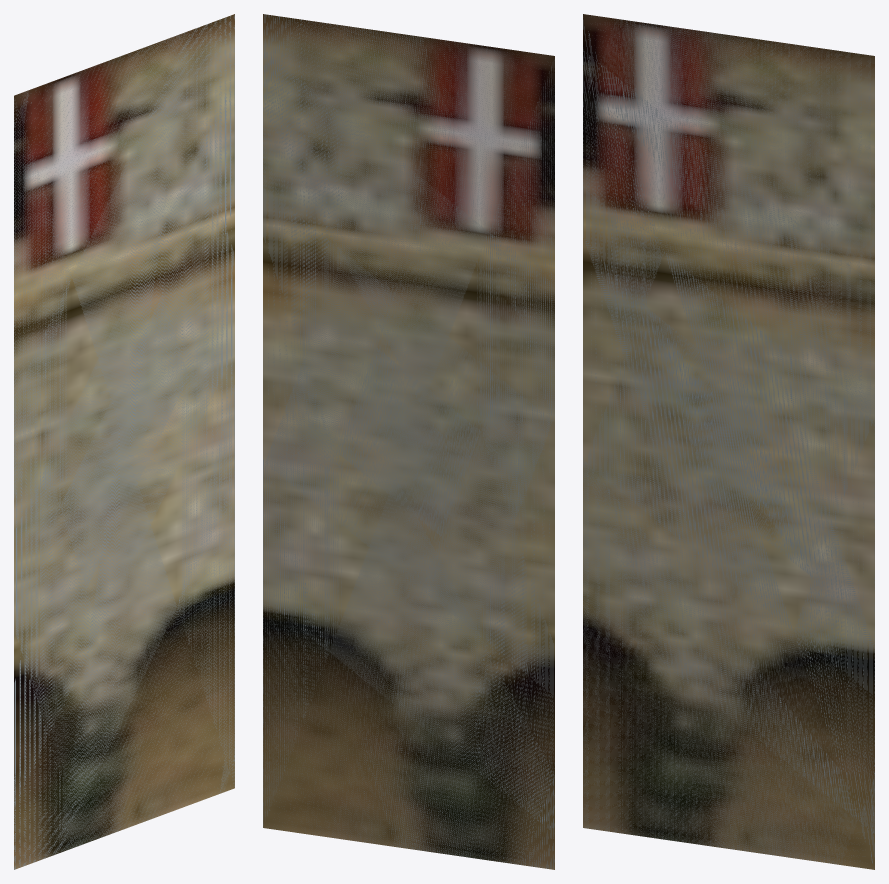
File: 西庸城堡192.dae
The picture shows the model from 3 angles, left to right: view 1: azimuth 30°, elevation 25°; view 2: azimuth 150°, elevation 25°; view 3: azimuth 330°, elevation 25°; orthographic projection. The views are drawn at different scales.
Visible parts, largest first — view 1: SketchUp; view 2: SketchUp; view 3: SketchUp.
Boxes of the visible parts, bbox=[...] form: SketchUp: bbox=[14, 14, 234, 869]; SketchUp: bbox=[263, 14, 554, 869]; SketchUp: bbox=[583, 14, 874, 869].
Size of the model in its own units: 39.79 by 7.87 by 118.
